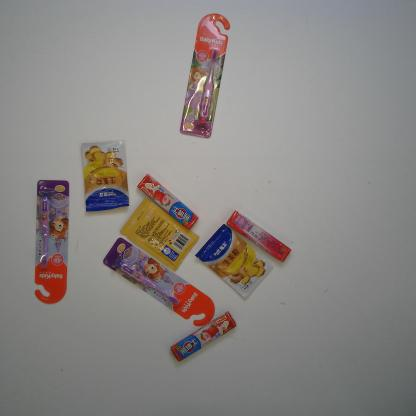Candy: (224, 208, 294, 264), (168, 310, 238, 364), (136, 173, 200, 231)
Personal Hygiene: (101, 237, 216, 329), (177, 11, 232, 141), (30, 178, 71, 308)
Seasoner: (194, 221, 276, 301), (117, 196, 200, 272), (78, 136, 132, 212)
